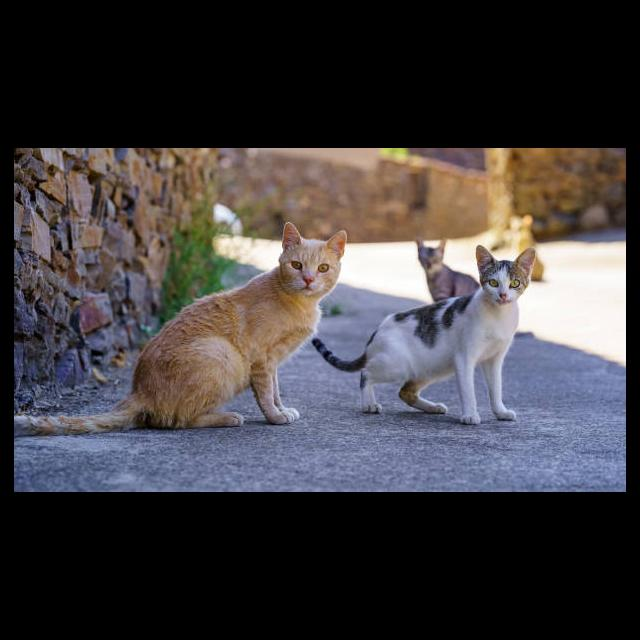animals: (272, 220, 356, 310), (466, 243, 546, 311), (406, 235, 450, 277)
